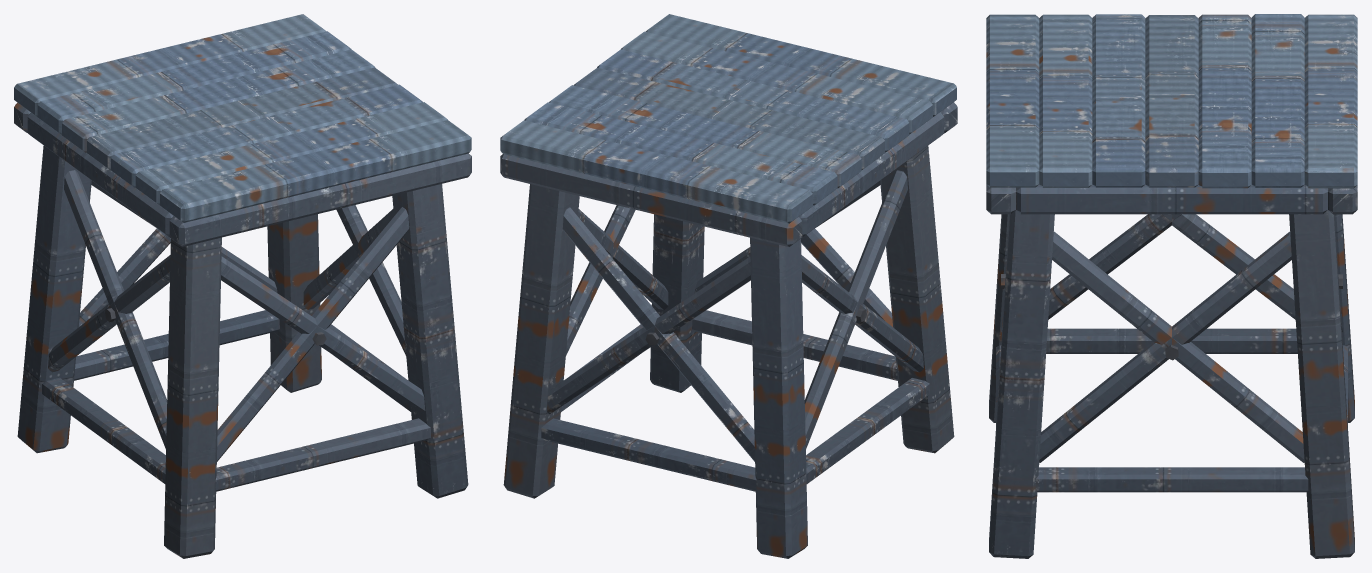
Rendered from kule_tabani.glb.
The picture shows the model from 3 angles, left to right: view 1: azimuth 30°, elevation 25°; view 2: azimuth 150°, elevation 25°; view 3: azimuth 270°, elevation 25°; orthographic projection. The views are drawn at different scales.
Parts seen in each view (by area): view 1: kule_tabani; view 2: kule_tabani; view 3: kule_tabani.
Boxes of the visible parts, bbox=[...] form: kule_tabani: bbox=[14, 14, 471, 558]; kule_tabani: bbox=[500, 14, 957, 558]; kule_tabani: bbox=[986, 14, 1357, 558].
Size of the model in its own units: 3 by 3.51 by 3.
Materials: 1 (1 with a texture image).
